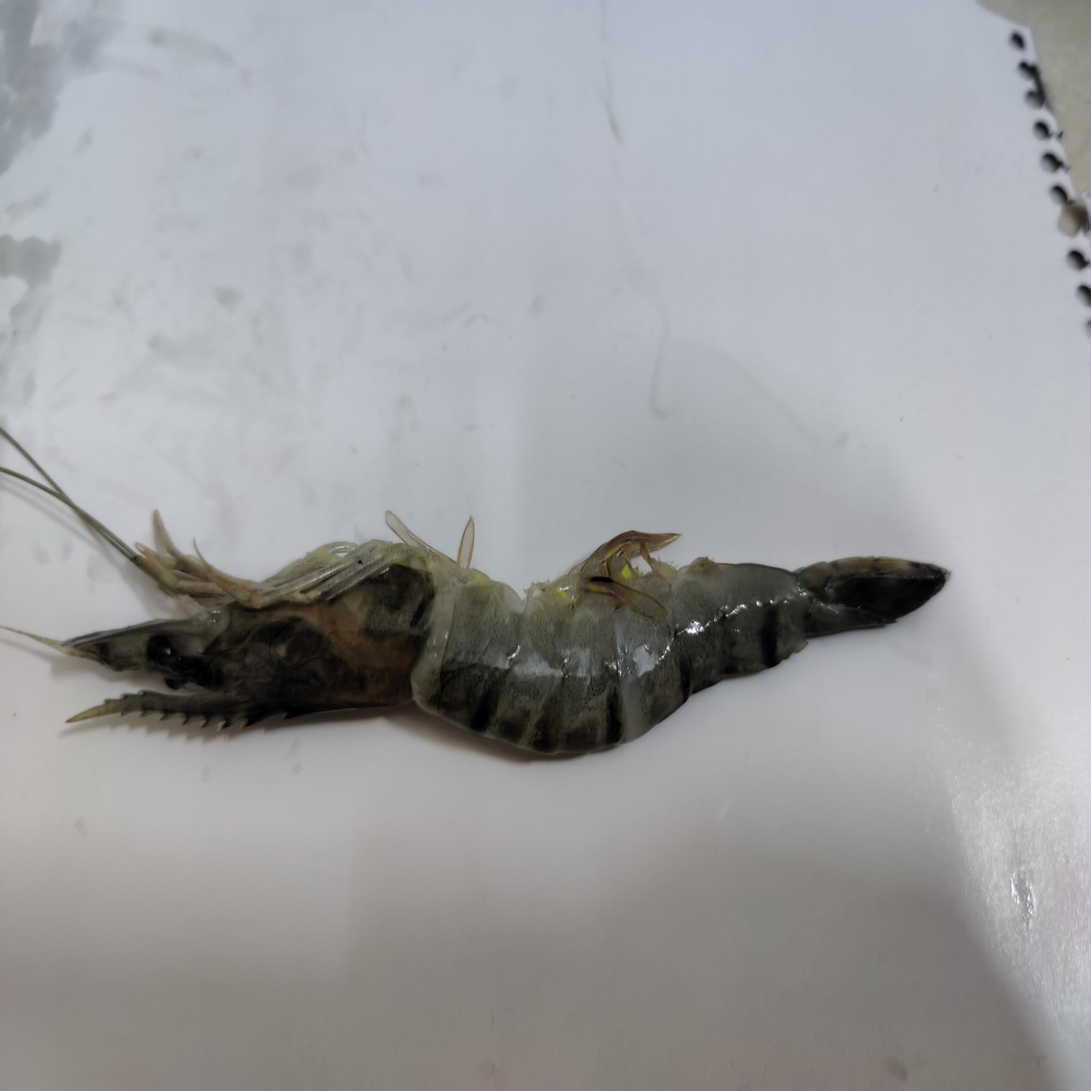blackgill: (336, 559, 438, 676)
